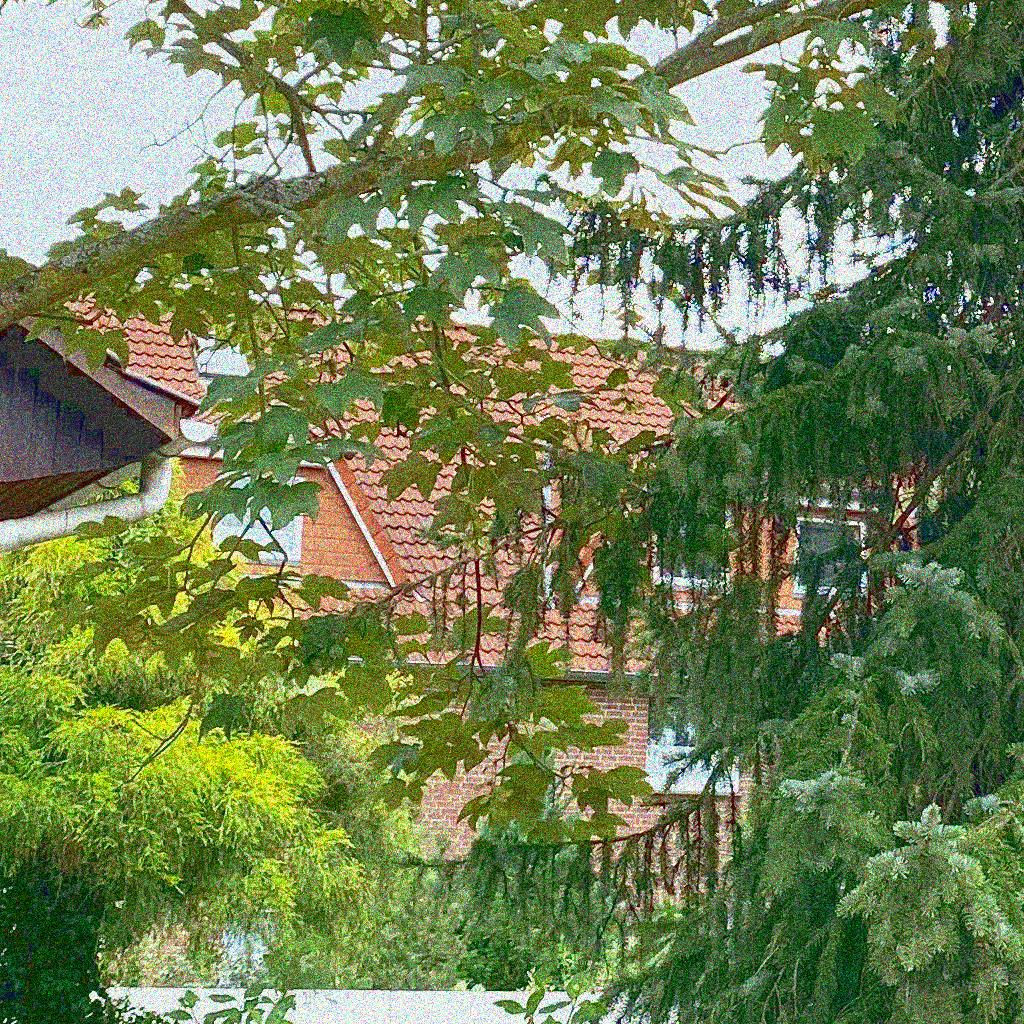tree: (1, 1, 1023, 853), (500, 1, 1023, 1023)
